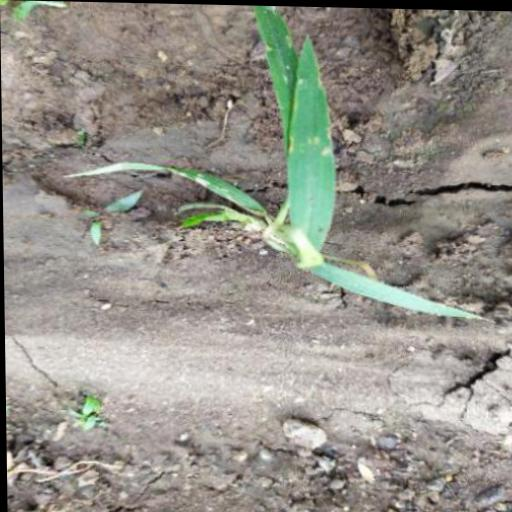weed: (56, 1, 507, 344)
